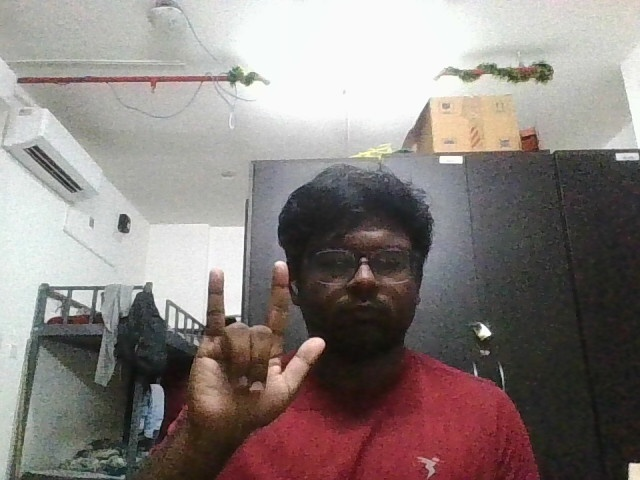I Love You: (180, 255, 331, 443)
